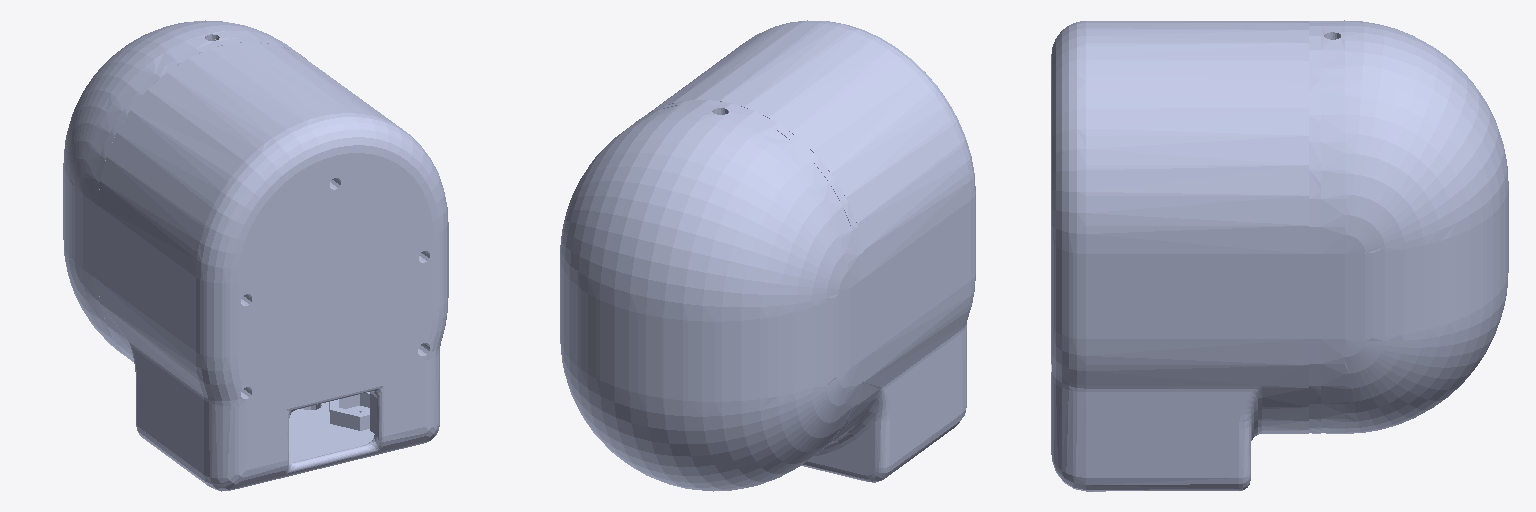
The robot description file, URDF, robot "装配体2.SLDASM":
<?xml version="1.0" encoding="utf-8"?>
<!-- This URDF was automatically created by SolidWorks to URDF Exporter! Originally created by Stephen Brawner (brawner@gmail.com) 
     Commit Version: 1.6.0-4-g7f85cfe  Build Version: 1.6.7995.38578
     For more information, please see http://wiki.ros.org/sw_urdf_exporter -->
<robot
  name="装配体2.SLDASM">
  <link
    name="Mount">
    <inertial>
      <origin
        xyz="0.00263688056092071 -0.00262884899763214 0.0109110630233869"
        rpy="0 0 0" />
      <mass
        value="0.00531098627730121" />
      <inertia
        ixx="8.82240287506628E-07"
        ixy="-3.13322980743593E-10"
        ixz="3.60719521066332E-12"
        iyy="6.15782444974971E-07"
        iyz="-1.30591073240996E-08"
        izz="1.13139643974096E-06" />
    </inertial>
    <visual>
      <origin
        xyz="0 0 0"
        rpy="0 0 0" />
      <geometry>
        <mesh
          filename="package://装配体2.SLDASM/meshes/Mount.STL" />
      </geometry>
      <material
        name="">
        <color
          rgba="0.792156862745098 0.819607843137255 0.933333333333333 1" />
      </material>
    </visual>
    <collision>
      <origin
        xyz="0 0 0"
        rpy="0 0 0" />
      <geometry>
        <mesh
          filename="package://装配体2.SLDASM/meshes/Mount.STL" />
      </geometry>
    </collision>
  </link>
  <link
    name="Rigid">
    <inertial>
      <origin
        xyz="0.0139936240090609 -0.00408071914940386 0.00181399367094888"
        rpy="0 0 0" />
      <mass
        value="0.000139255177268593" />
      <inertia
        ixx="2.05079374402594E-08"
        ixy="-7.09037183531674E-12"
        ixz="-1.3229011237761E-12"
        iyy="1.46494310108244E-08"
        iyz="-1.02996780562249E-11"
        izz="3.49457158547085E-08" />
    </inertial>
    <visual>
      <origin
        xyz="0 0 0"
        rpy="0 0 0" />
      <geometry>
        <mesh
          filename="package://装配体2.SLDASM/meshes/Rigid.STL" />
      </geometry>
      <material
        name="">
        <color
          rgba="0.792156862745098 0.819607843137255 0.933333333333333 1" />
      </material>
    </visual>
    <collision>
      <origin
        xyz="0 0 0"
        rpy="0 0 0" />
      <geometry>
        <mesh
          filename="package://装配体2.SLDASM/meshes/Rigid.STL" />
      </geometry>
    </collision>
  </link>
  <joint
    name="rigid"
    type="fixed">
    <origin
      xyz="-0.0113560896114318 0.00129031259203606 0.00274423197111925"
      rpy="1.5707963267949 0 0" />
    <parent
      link="Mount" />
    <child
      link="Rigid" />
    <axis
      xyz="0 0 0" />
  </joint>
  <link
    name="Soft">
    <inertial>
      <origin
        xyz="0.0140017121571056 -0.00401105354165666 -0.00666035297507206"
        rpy="0 0 0" />
      <mass
        value="0.00188685440856045" />
      <inertia
        ixx="2.29183868463607E-07"
        ixy="1.87828029976501E-11"
        ixz="-8.0783946037388E-12"
        iyy="1.65268472737511E-07"
        iyz="1.527419786212E-10"
        izz="3.22037979580595E-07" />
    </inertial>
    <visual>
      <origin
        xyz="0 0 0"
        rpy="0 0 0" />
      <geometry>
        <mesh
          filename="package://装配体2.SLDASM/meshes/Soft.STL" />
      </geometry>
      <material
        name="">
        <color
          rgba="0.792156862745098 0.819607843137255 0.933333333333333 1" />
      </material>
    </visual>
    <collision>
      <origin
        xyz="0 0 0"
        rpy="0 0 0" />
      <geometry>
        <mesh
          filename="package://装配体2.SLDASM/meshes/Soft.STL" />
      </geometry>
    </collision>
  </link>
  <joint
    name="soft"
    type="fixed">
    <origin
      xyz="0 0 0"
      rpy="0 0 0" />
    <parent
      link="Rigid" />
    <child
      link="Soft" />
    <axis
      xyz="0 0 0" />
  </joint>
  <link
    name="Pin">
    <inertial>
      <origin
        xyz="0.0140000000000001 -0.00402070313675967 -0.00776201195766873"
        rpy="0 0 0" />
      <mass
        value="2.3897855613486E-05" />
      <inertia
        ixx="1.64118287385106E-12"
        ixy="-7.36638313295381E-27"
        ixz="-8.14774985957522E-27"
        iyy="1.48870883460718E-12"
        iyz="1.52993817606093E-15"
        izz="1.84309371766466E-12" />
    </inertial>
    <visual>
      <origin
        xyz="0 0 0"
        rpy="0 0 0" />
      <geometry>
        <mesh
          filename="package://装配体2.SLDASM/meshes/Pin.STL" />
      </geometry>
      <material
        name="">
        <color
          rgba="0.792156862745098 0.819607843137255 0.933333333333333 1" />
      </material>
    </visual>
    <collision>
      <origin
        xyz="0 0 0"
        rpy="0 0 0" />
      <geometry>
        <mesh
          filename="package://装配体2.SLDASM/meshes/Pin.STL" />
      </geometry>
    </collision>
  </link>
  <joint
    name="pin"
    type="fixed">
    <origin
      xyz="0 0 0"
      rpy="0 0 0" />
    <parent
      link="Soft" />
    <child
      link="Pin" />
    <axis
      xyz="0 0 0" />
  </joint>
</robot>

--- Facts derived from the render (not from the file) ---
The picture shows the robot from 3 angles, left to right: view 1: azimuth 30°, elevation 25°; view 2: azimuth 150°, elevation 25°; view 3: azimuth 270°, elevation 25°; orthographic projection.
Model 装配体2.SLDASM with 4 links and 3 joints (3 fixed), rooted at Mount, posed all joints at 0.
Visible links, largest first — view 1: Mount, Soft, Rigid; view 2: Soft, Mount, Rigid; view 3: Mount, Soft, Rigid.
Boxes of the visible links, x1=… form: Mount: x1=98, y1=42, x2=448, y2=491; Soft: x1=63, y1=20, x2=294, y2=361; Rigid: x1=93, y1=38, x2=306, y2=356; Soft: x1=560, y1=104, x2=860, y2=491; Mount: x1=648, y1=20, x2=975, y2=482; Rigid: x1=636, y1=100, x2=865, y2=456; Mount: x1=1051, y1=21, x2=1308, y2=491; Soft: x1=1321, y1=20, x2=1508, y2=433; Rigid: x1=1309, y1=21, x2=1337, y2=433.
Bounding box of the posed robot: 0.028 × 0.039 × 0.0375 m (x, y, z).
Meshes: 4 distinct files referenced, 4 mesh visuals loaded (4 binary STL).
